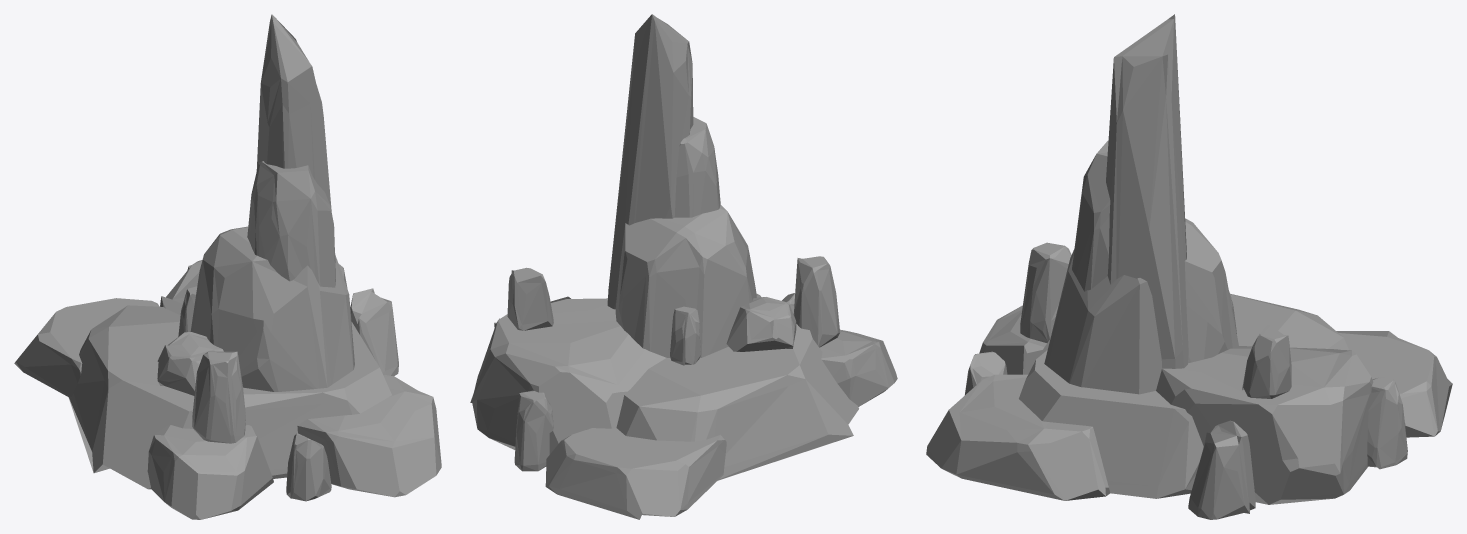
The model's file is Rock_026.fbx.
The picture shows the model from 3 angles, left to right: view 1: azimuth 30°, elevation 25°; view 2: azimuth 150°, elevation 25°; view 3: azimuth 270°, elevation 25°; orthographic projection. The views are drawn at different scales.
Visible parts, largest first — view 1: Rock_026; view 2: Rock_026; view 3: Rock_026.
Boxes of the visible parts, bbox=[...] form: Rock_026: bbox=[14, 14, 441, 519]; Rock_026: bbox=[470, 14, 897, 519]; Rock_026: bbox=[926, 14, 1452, 519].
Bounding box in the file's own units: 436 × 548 × 495.
Materials: 1 (1 with a texture image).
